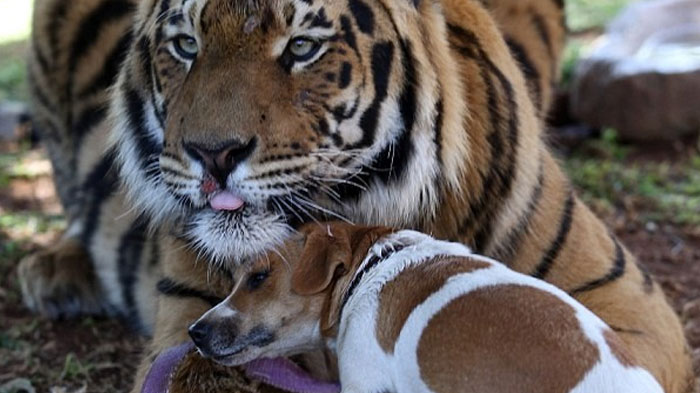dog: (196, 228, 657, 393)
tiger: (34, 1, 665, 359)
